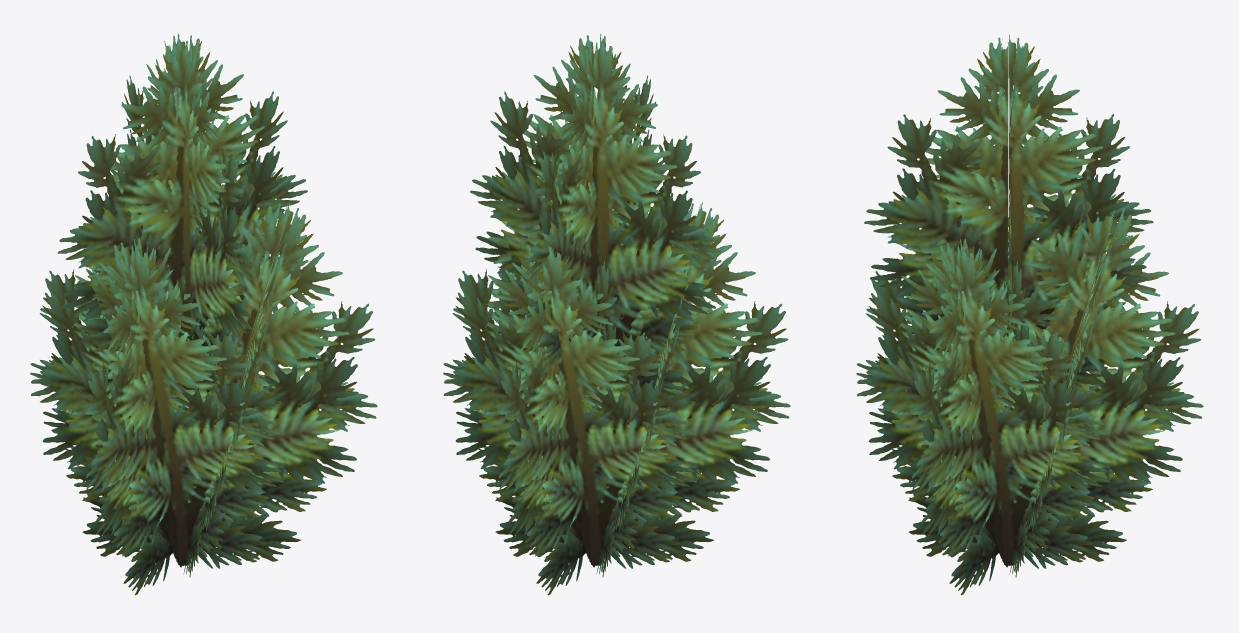
The model's file is HP3_pineBig2.fbx.
3 renders of one model, left to right at view 1: azimuth 30°, elevation 25°; view 2: azimuth 150°, elevation 25°; view 3: azimuth 270°, elevation 25°, orthographic.
Parts seen in each view (by area): view 1: HP3_pineBig2; view 2: HP3_pineBig2; view 3: HP3_pineBig2.
Boxes of the visible parts, x1,y1,x2,y2 form: HP3_pineBig2: (30,34,377,595); HP3_pineBig2: (443,33,790,595); HP3_pineBig2: (856,34,1203,595).
Size of the model in its own units: 8.72 by 14.43 by 8.96.
